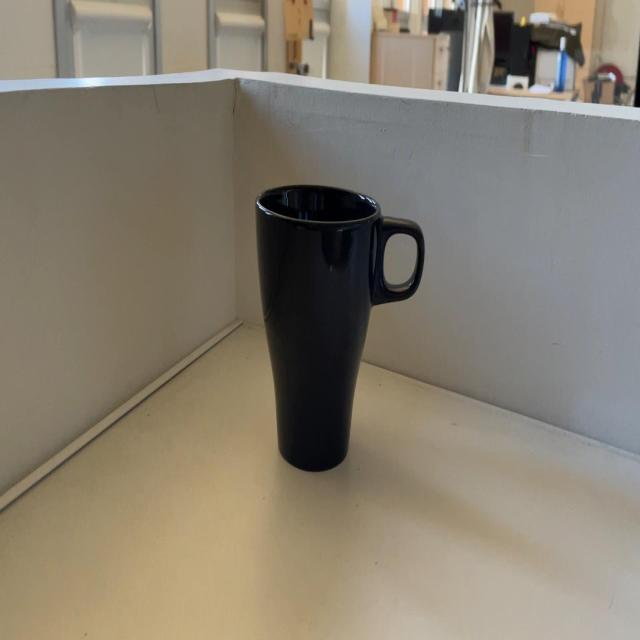cup: (253, 185, 426, 472)
